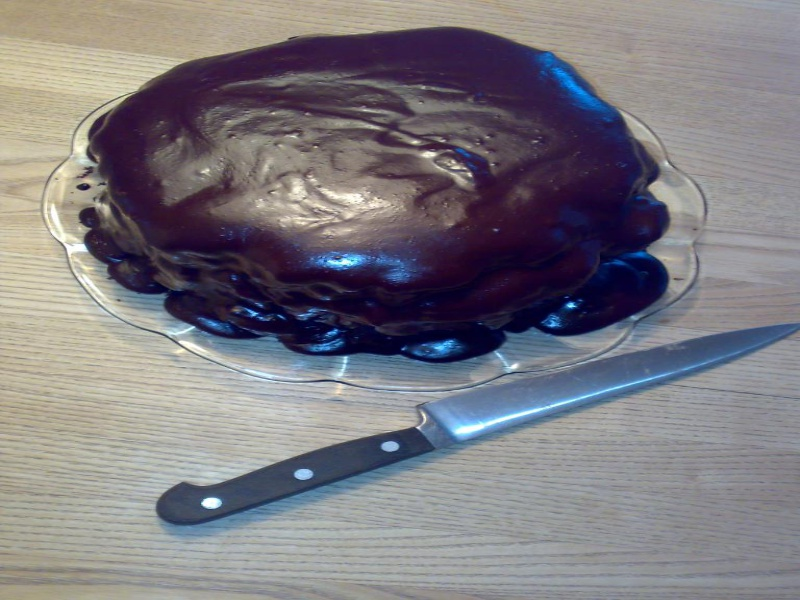knife: (154, 314, 799, 527)
